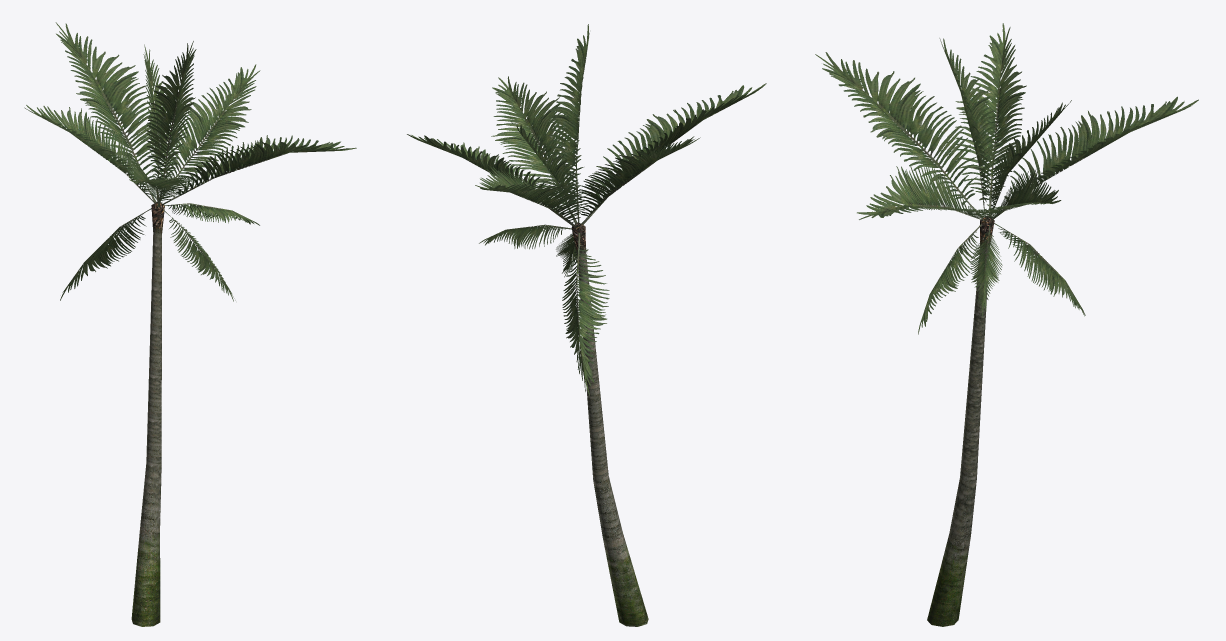
Rendered from ever_palmtree_sm_l0.fbx.
The picture shows the model from 3 angles, left to right: view 1: azimuth 30°, elevation 25°; view 2: azimuth 150°, elevation 25°; view 3: azimuth 270°, elevation 25°; orthographic projection. The views are drawn at different scales.
Visible parts, largest first — view 1: mesh_node; view 2: mesh_node; view 3: mesh_node.
Part boxes in pixels (bbox=[...]): mesh_node: bbox=[24, 22, 356, 626]; mesh_node: bbox=[407, 24, 766, 626]; mesh_node: bbox=[815, 23, 1198, 626].
Size of the model in its own units: 7.76 by 15.43 by 9.15.
Materials: 4 (4 with a texture image).
